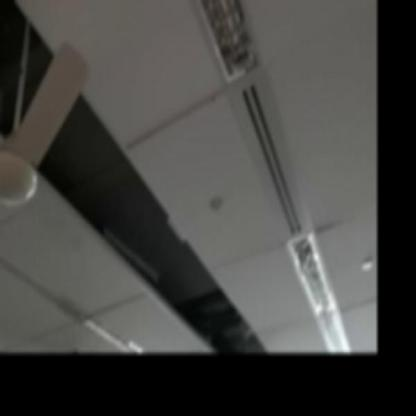light_off: (155, 0, 280, 93), (279, 209, 356, 353)
